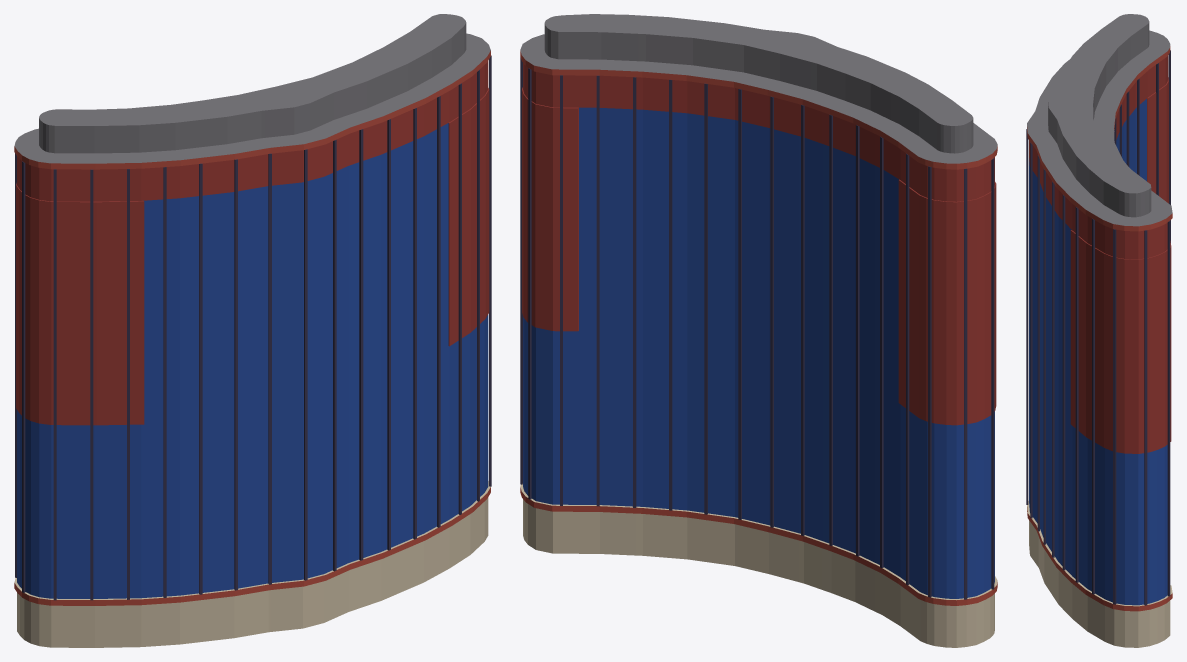
Rendered from rio_masquerade_tower_w27998223.glb.
3 renders of one model, left to right at view 1: azimuth 30°, elevation 25°; view 2: azimuth 150°, elevation 25°; view 3: azimuth 270°, elevation 25°, orthographic. The views are drawn at different scales.
Parts seen in each view (by area): view 1: Tower_w27998223; view 2: Tower_w27998223; view 3: Tower_w27998223.
Part boxes in pixels (left/top/right/bottom): Tower_w27998223: left=14, top=14, right=491, bottom=647; Tower_w27998223: left=520, top=14, right=997, bottom=647; Tower_w27998223: left=1026, top=14, right=1172, bottom=647.
Bounding box in the file's own units: 124 × 131 × 38.9.
